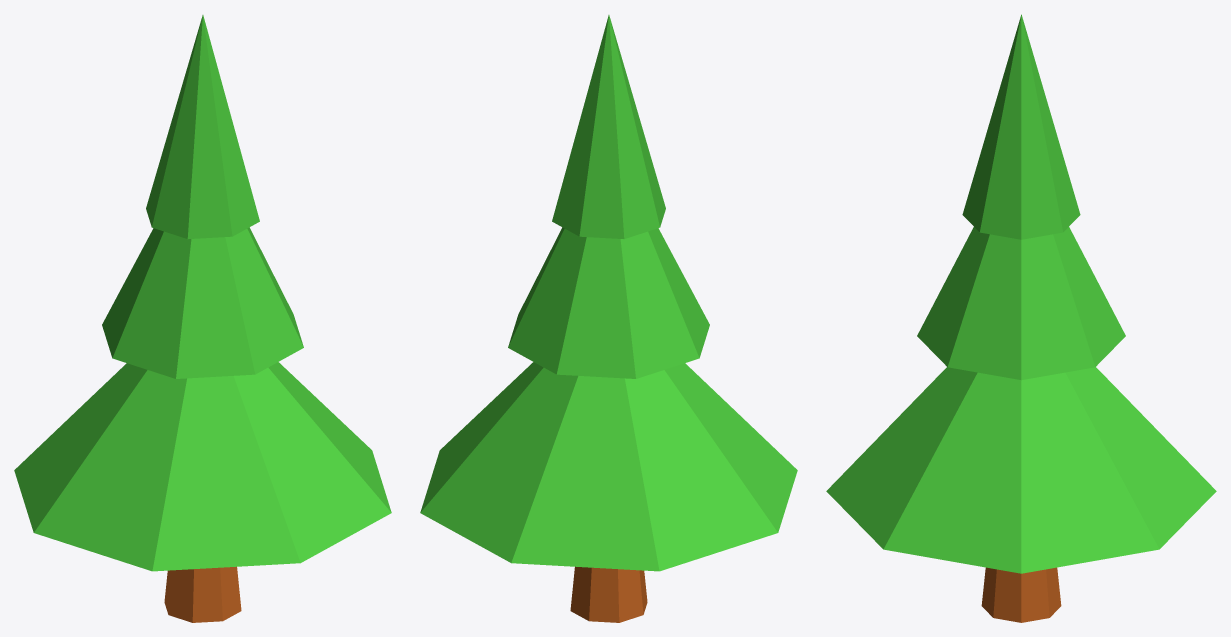
Rendered from tree2.fbx.
3 views of the same model, side by side, from view 1: azimuth 30°, elevation 25°; view 2: azimuth 150°, elevation 25°; view 3: azimuth 270°, elevation 25° (orthographic).
Visible parts, largest first — view 1: Cone.001; view 2: Cone.001; view 3: Cone.001.
Boxes of the visible parts, x1=… form: Cone.001: x1=14, y1=15, x2=391, y2=622; Cone.001: x1=420, y1=15, x2=797, y2=622; Cone.001: x1=826, y1=14, x2=1216, y2=622.
Bounding box in the file's own units: 735 × 1230 × 735.
